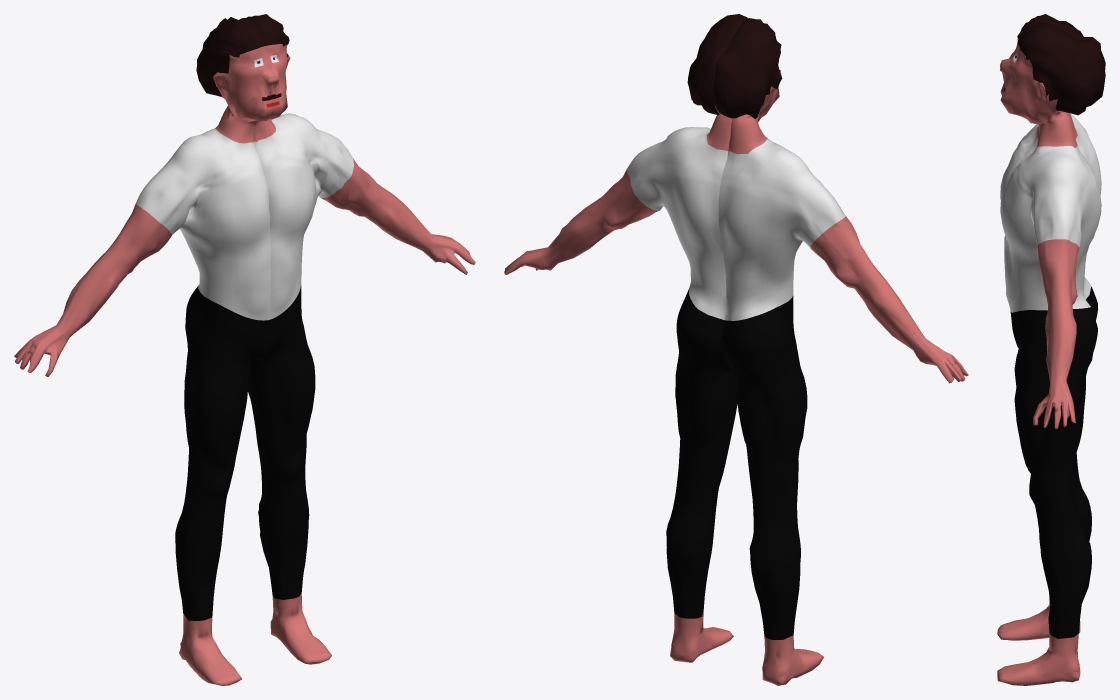
The model's file is BASEmodel.obj.
3 views of the same model, side by side, from view 1: azimuth 30°, elevation 25°; view 2: azimuth 150°, elevation 25°; view 3: azimuth 270°, elevation 25° (orthographic).
Visible parts, largest first — view 1: Cube_Cube.001; view 2: Cube_Cube.001; view 3: Cube_Cube.001.
Boxes of the visible parts, bbox=[...] form: Cube_Cube.001: bbox=[14, 14, 475, 685]; Cube_Cube.001: bbox=[504, 14, 968, 685]; Cube_Cube.001: bbox=[997, 14, 1105, 685].
Size of the model in its own units: 3.63 by 4.9 by 0.7562.
